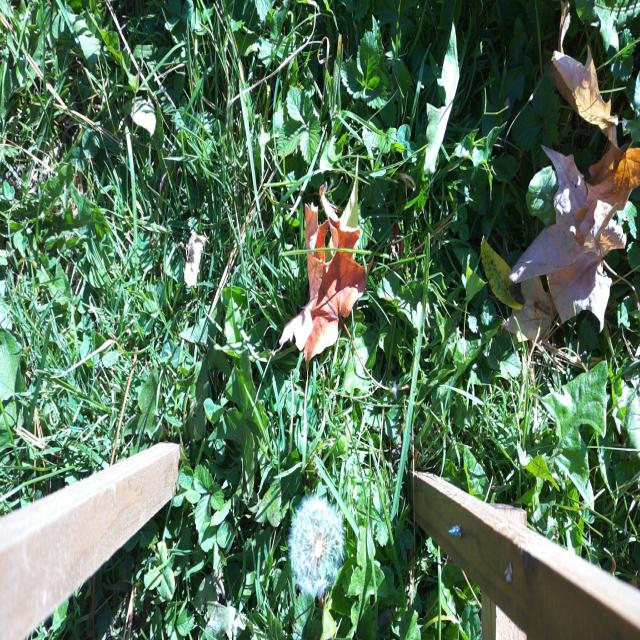base: (313, 595, 332, 620)
flower: (287, 488, 346, 598)
